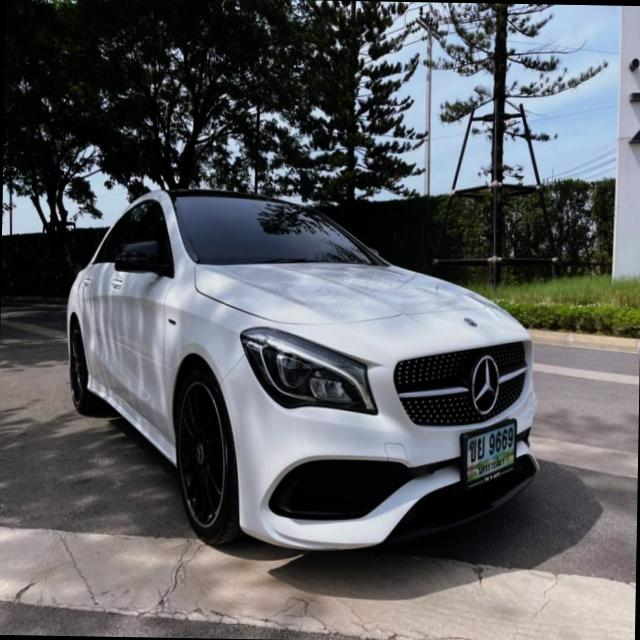license_plate: (458, 416, 520, 489)
